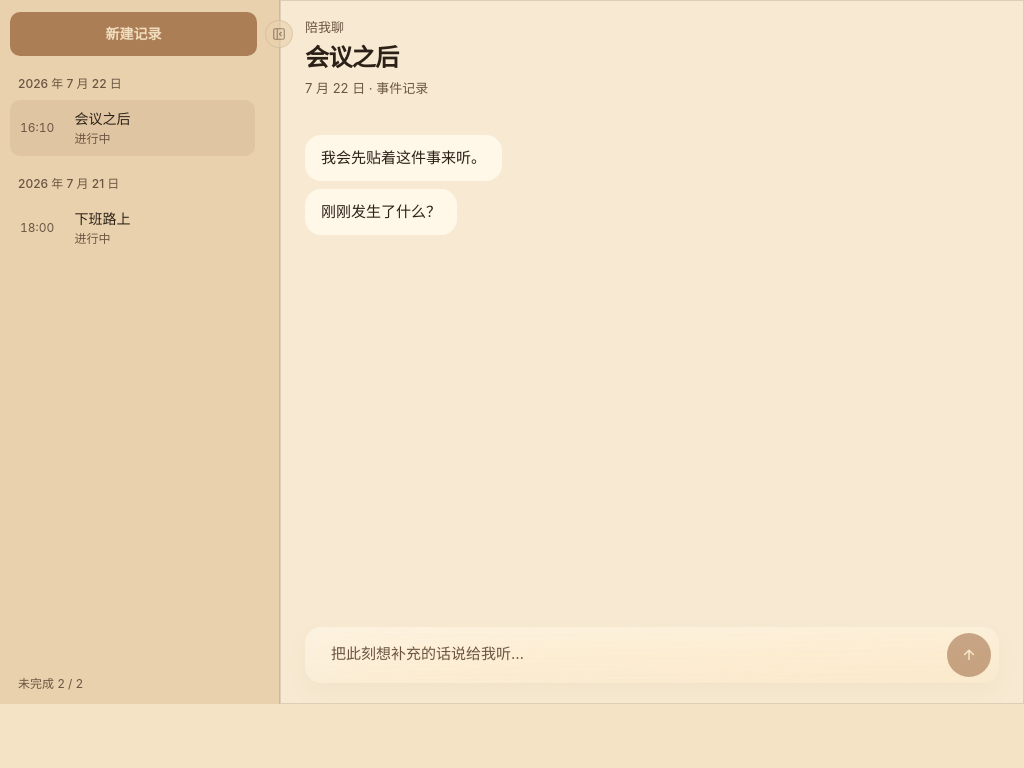
EventCenteredInterviewWorkspace › lists cross-date sessions and opens the selected conversation
Click the option "18:00 下班路上 进行中": (132, 228) [10,200,255,256]
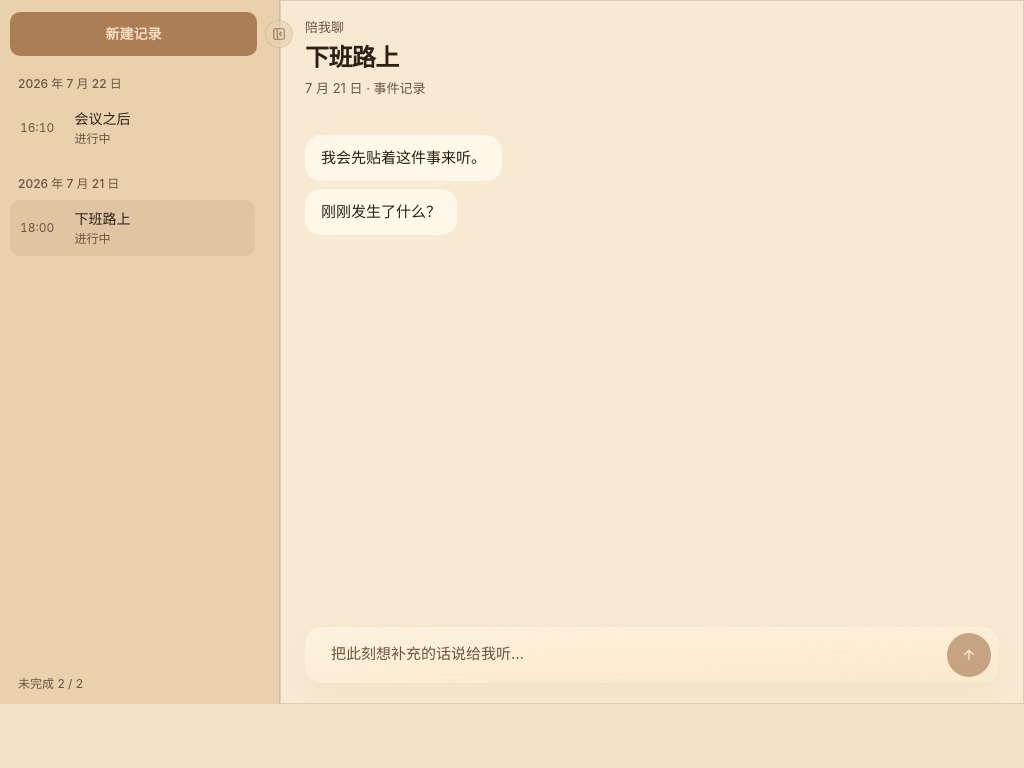
Expected: the heading "下班路上" is shown, [305,43,399,72]
